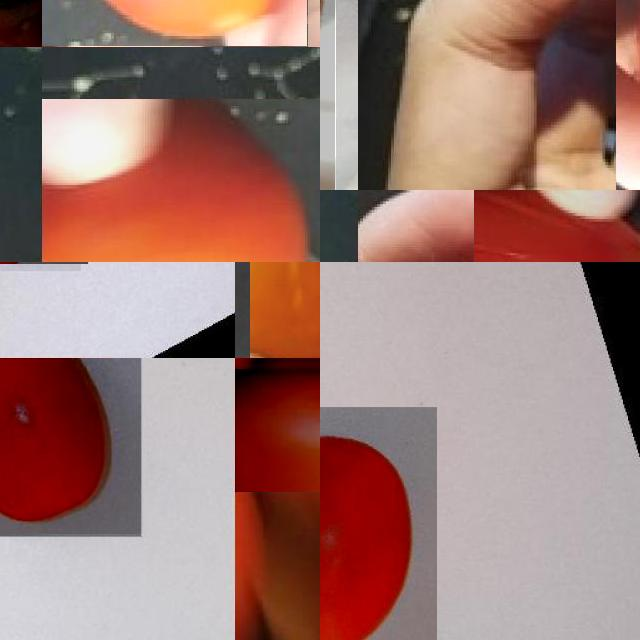Fresh Tomato: (42, 99, 320, 262), (320, 407, 437, 640), (0, 358, 142, 536), (42, 0, 307, 47), (235, 358, 320, 492)
Rotten Tomato: (474, 190, 640, 262)
